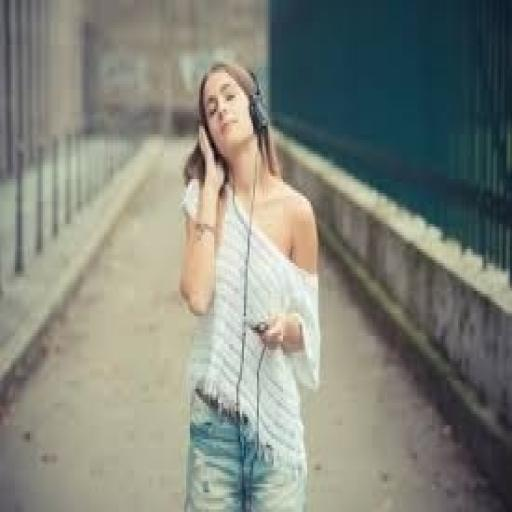listening_to_music: (179, 56, 324, 509)
